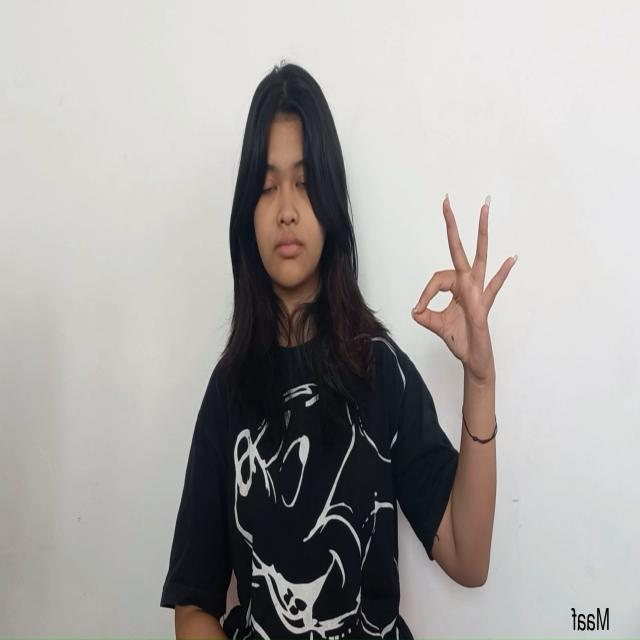Maaf -BISINDO-: (410, 191, 520, 408)
